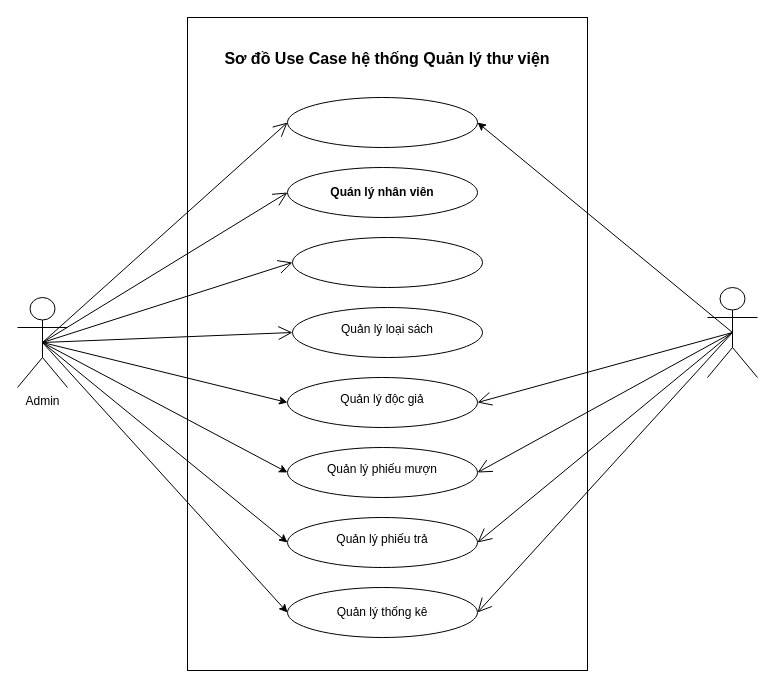
The diagram is 775 pixels wide and 688 high, and some of its shapes have lost their labels. The shapes that lost their labels are listed below. From the top down, each one's centre as x and y in pixels, then its label:
At point (382, 122): "Đăng nhập".
At point (387, 262): "Quản lý sách".
At point (732, 332): "Thủ thư".
